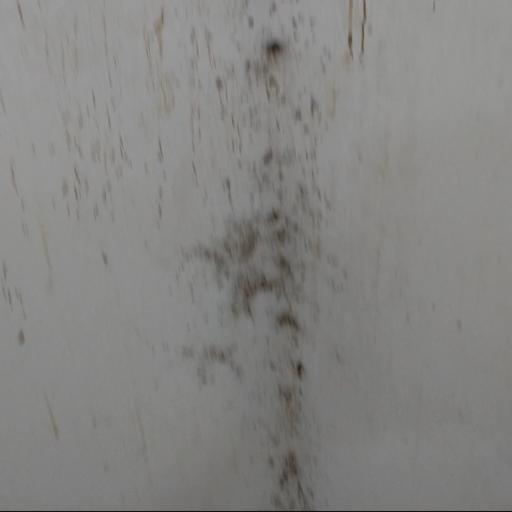stain: (13, 0, 369, 512)
